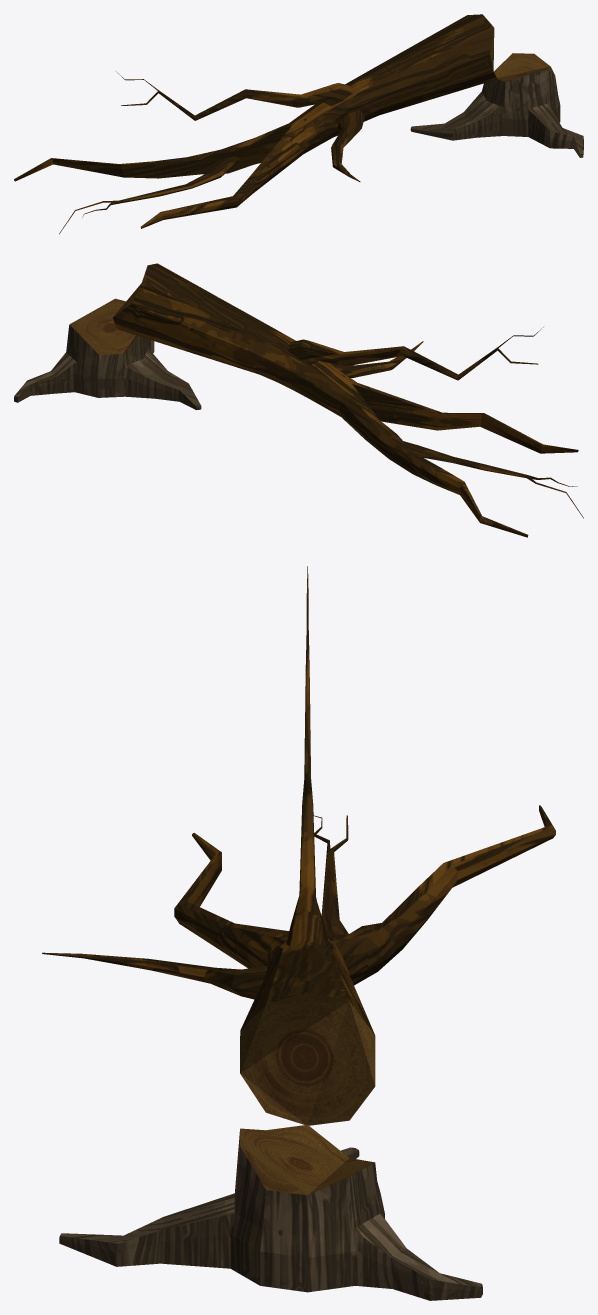
The model's file is Fallen_Tree_W_Tree_Trunk 1.fbx.
The picture shows the model from 3 angles, top to bottom: view 1: azimuth 30°, elevation 25°; view 2: azimuth 150°, elevation 25°; view 3: azimuth 270°, elevation 25°; orthographic projection. The views are drawn at different scales.
Parts seen in each view (by area): view 1: Cylinder008; view 2: Cylinder008; view 3: Cylinder008.
Part boxes in pixels (<box>): Cylinder008: <box>14,14,583,234</box>; Cylinder008: <box>14,263,583,537</box>; Cylinder008: <box>42,566,555,1300</box>.
Bounding box in the file's own units: 585 × 263 × 180.
